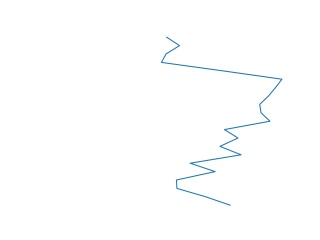floodPlain: (160, 35, 284, 208)
